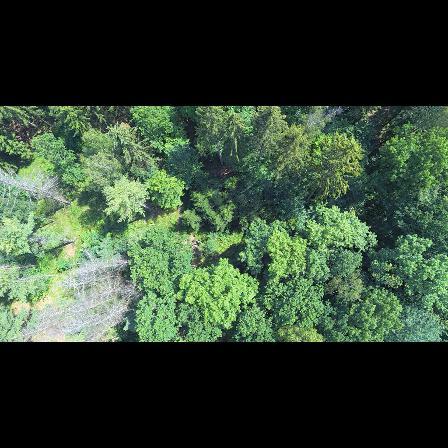Dead: (0, 170, 70, 206), (76, 255, 131, 278), (70, 295, 124, 316), (93, 305, 132, 329), (12, 320, 63, 338), (86, 320, 126, 342), (60, 275, 110, 290), (95, 285, 123, 298)
